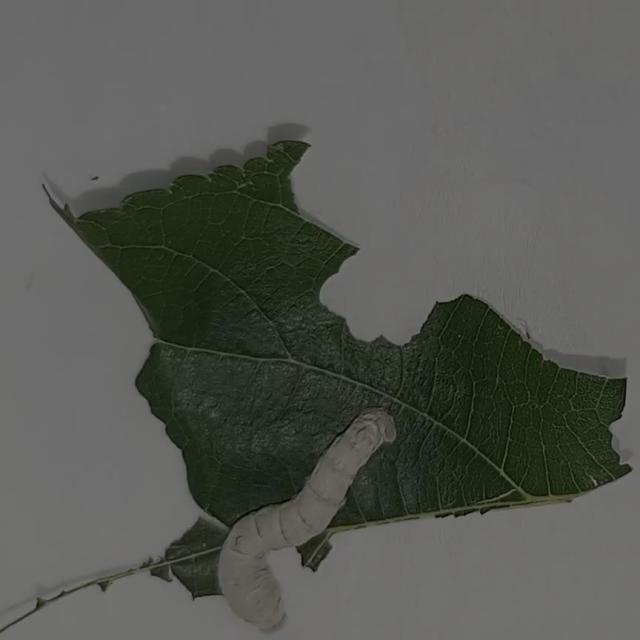Healthy: (206, 396, 401, 636)
